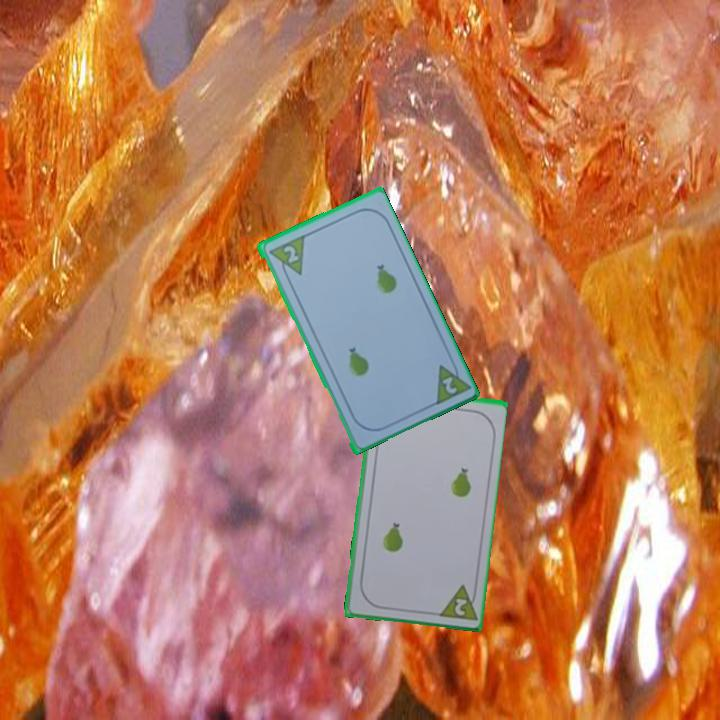2p: (434, 580, 480, 623), (438, 372, 460, 397), (279, 242, 301, 266)
